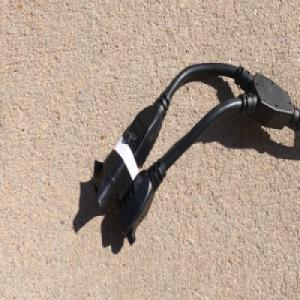Wire: (90, 60, 300, 247)
